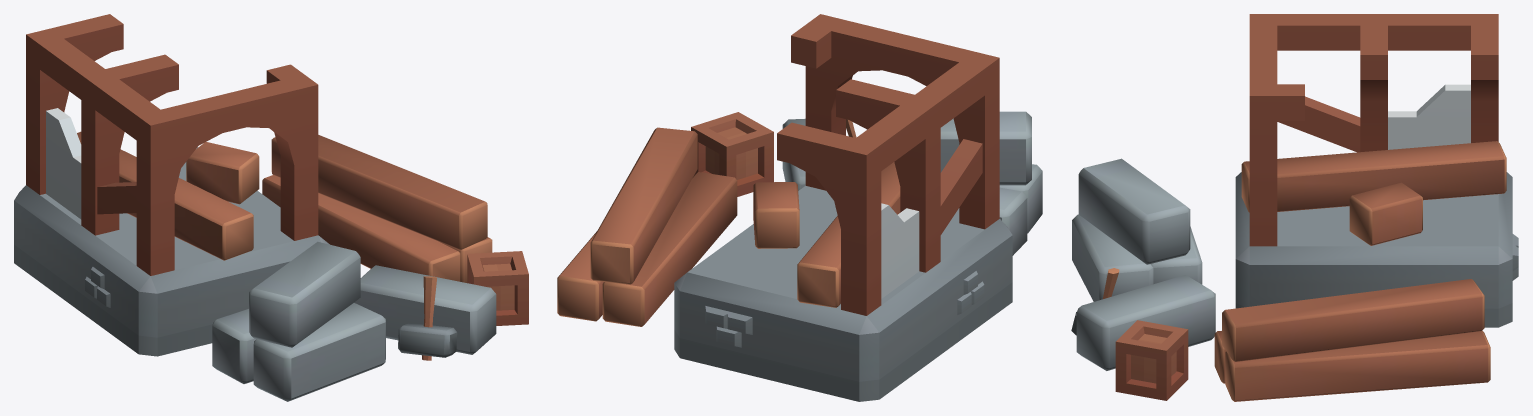
The model's file is k-stage-b-kaykit.glb.
3 views of the same model, side by side, from view 1: azimuth 30°, elevation 25°; view 2: azimuth 150°, elevation 25°; view 3: azimuth 270°, elevation 25° (orthographic). The views are drawn at different scales.
Visible parts, largest first — view 1: building_stage_B; view 2: building_stage_B; view 3: building_stage_B.
Part boxes in pixels (left/top/right/bottom): building_stage_B: left=14, top=14, right=528, bottom=401; building_stage_B: left=557, top=14, right=1042, bottom=401; building_stage_B: left=1071, top=14, right=1518, bottom=401.
Bounding box in the file's own units: 1.02 × 0.6359 × 1.13.
Materials: 1 (1 with a texture image).
